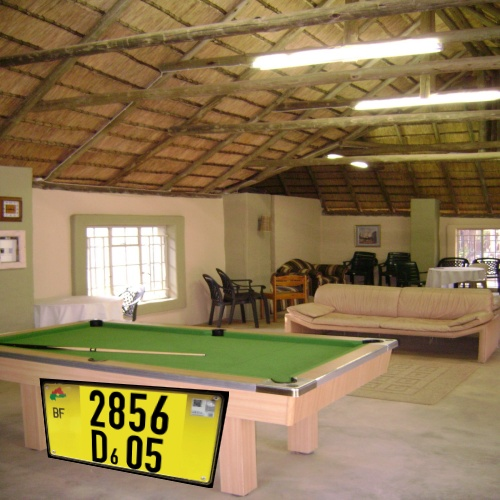plate: (30, 364, 245, 493)
